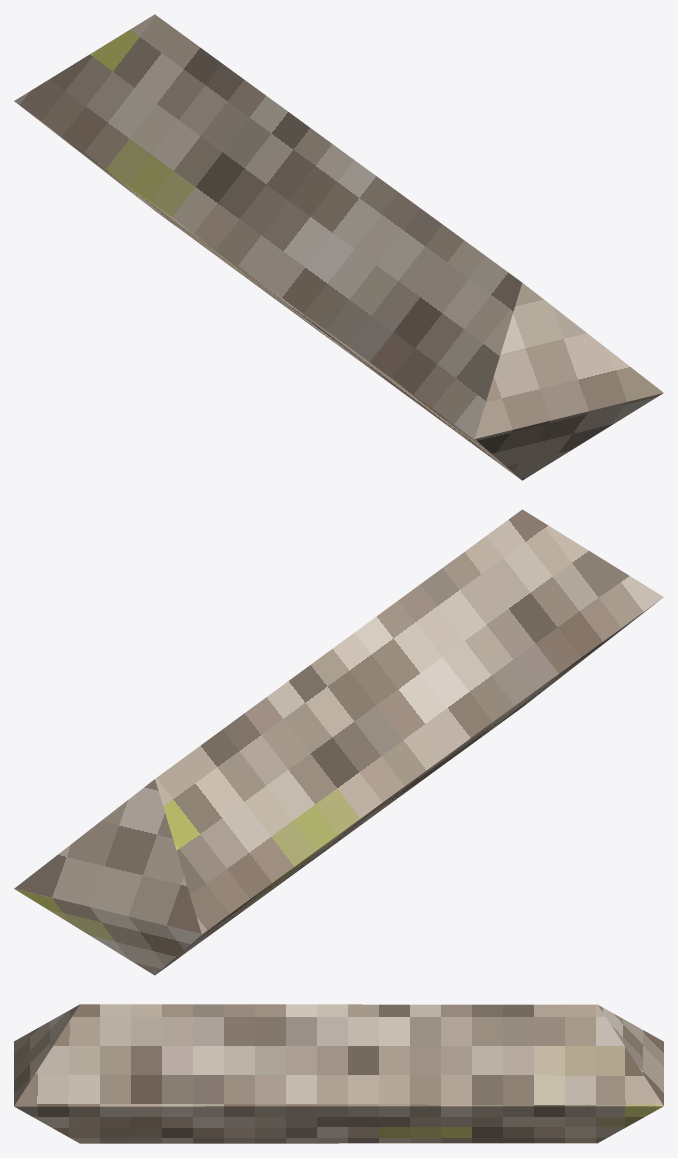
Rendered from thin_trunk_horizontal_parent.obj.
3 views of the same model, one above another, from view 1: azimuth 30°, elevation 25°; view 2: azimuth 150°, elevation 25°; view 3: azimuth 270°, elevation 25° (orthographic). The views are drawn at different scales.
Parts seen in each view (by area): view 1: cube_selection_selection; view 2: cube_selection_selection; view 3: cube_selection_selection.
Part boxes in pixels (box(x1,y1,x2,y2)): cube_selection_selection: box(14, 14, 663, 480); cube_selection_selection: box(14, 509, 663, 975); cube_selection_selection: box(14, 1004, 663, 1143).
Size of the model in its own units: 0.3107 by 0.3104 by 1.31.
1 material, 1 textured.
